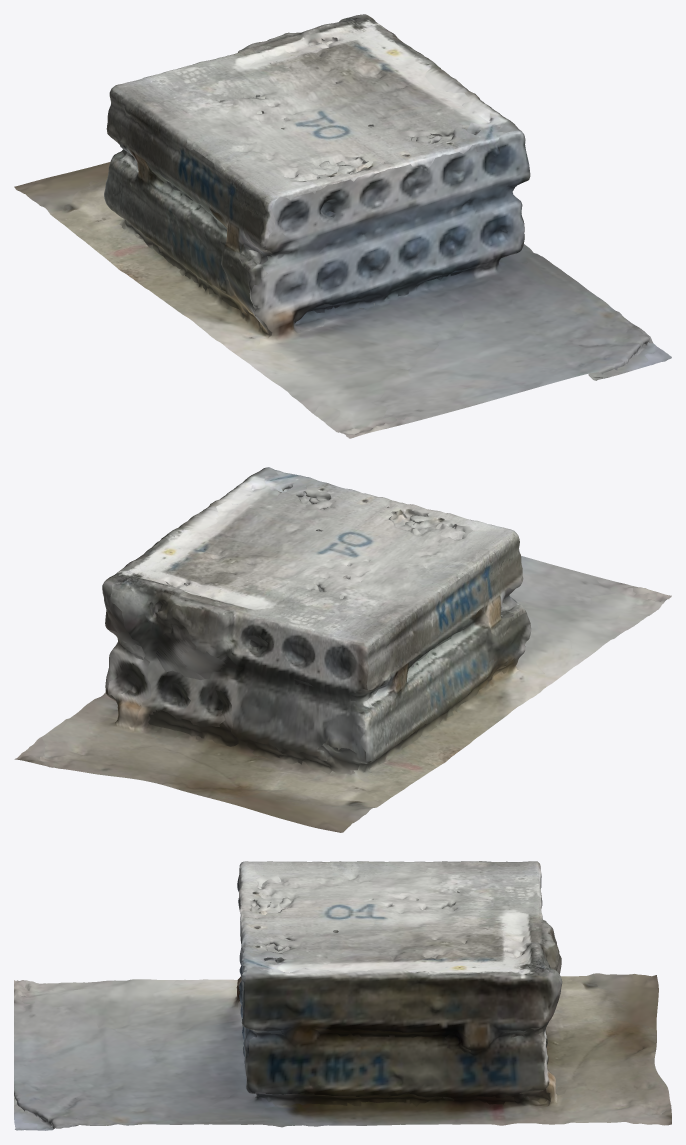
3 views of the same model, one above another, from view 1: azimuth 30°, elevation 25°; view 2: azimuth 150°, elevation 25°; view 3: azimuth 270°, elevation 25° (orthographic). The views are drawn at different scales.
Parts seen in each view (by area): view 1: Node; view 2: Node; view 3: Node.
Boxes of the visible parts, left/top/right/bottom form: Node: left=14, top=14, right=671, bottom=438; Node: left=14, top=467, right=671, bottom=832; Node: left=14, top=861, right=671, bottom=1130.
Bounding box in the file's own units: 1.46 × 0.6711 × 2.69.
1 material, 1 textured.
